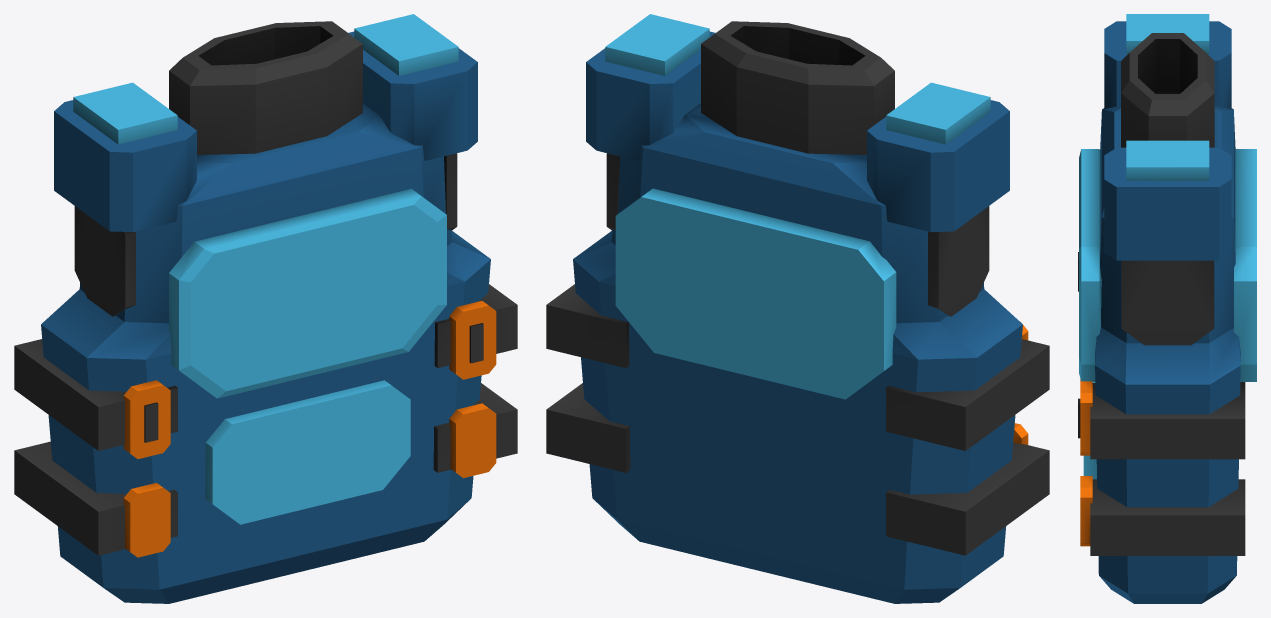
File: vest.glb
The picture shows the model from 3 angles, left to right: view 1: azimuth 30°, elevation 25°; view 2: azimuth 150°, elevation 25°; view 3: azimuth 270°, elevation 25°; orthographic projection. The views are drawn at different scales.
Visible parts, largest first — view 1: vest; view 2: vest; view 3: vest.
Part boxes in pixels (x1,y1,x2,y2): vest: (14,14,517,603); vest: (546,14,1049,603); vest: (1078,14,1256,603).
Bounding box in the file's own units: 0.4 × 0.46 × 0.16.
1 material, 1 textured.
